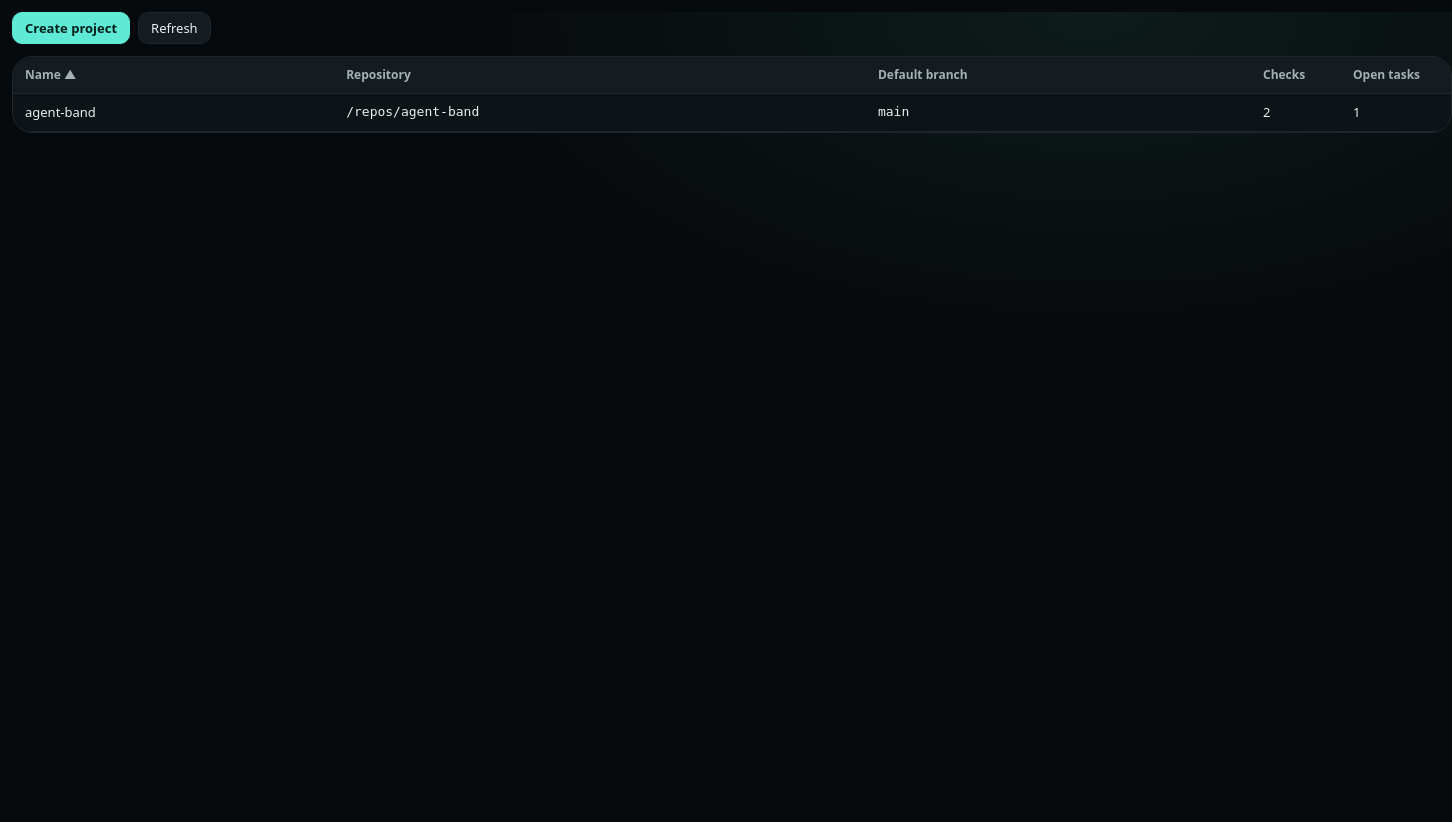
Test case: Projects screen › lists projects and shows open tasks, reviews and recent merges in the details
Check: the text "/repos/agent-band" is shown, box left=346, top=104, right=479, bottom=119
Click the row "agent-band /repos/agent-band main 2 1" at (732, 112), box left=13, top=93, right=1451, bottom=131
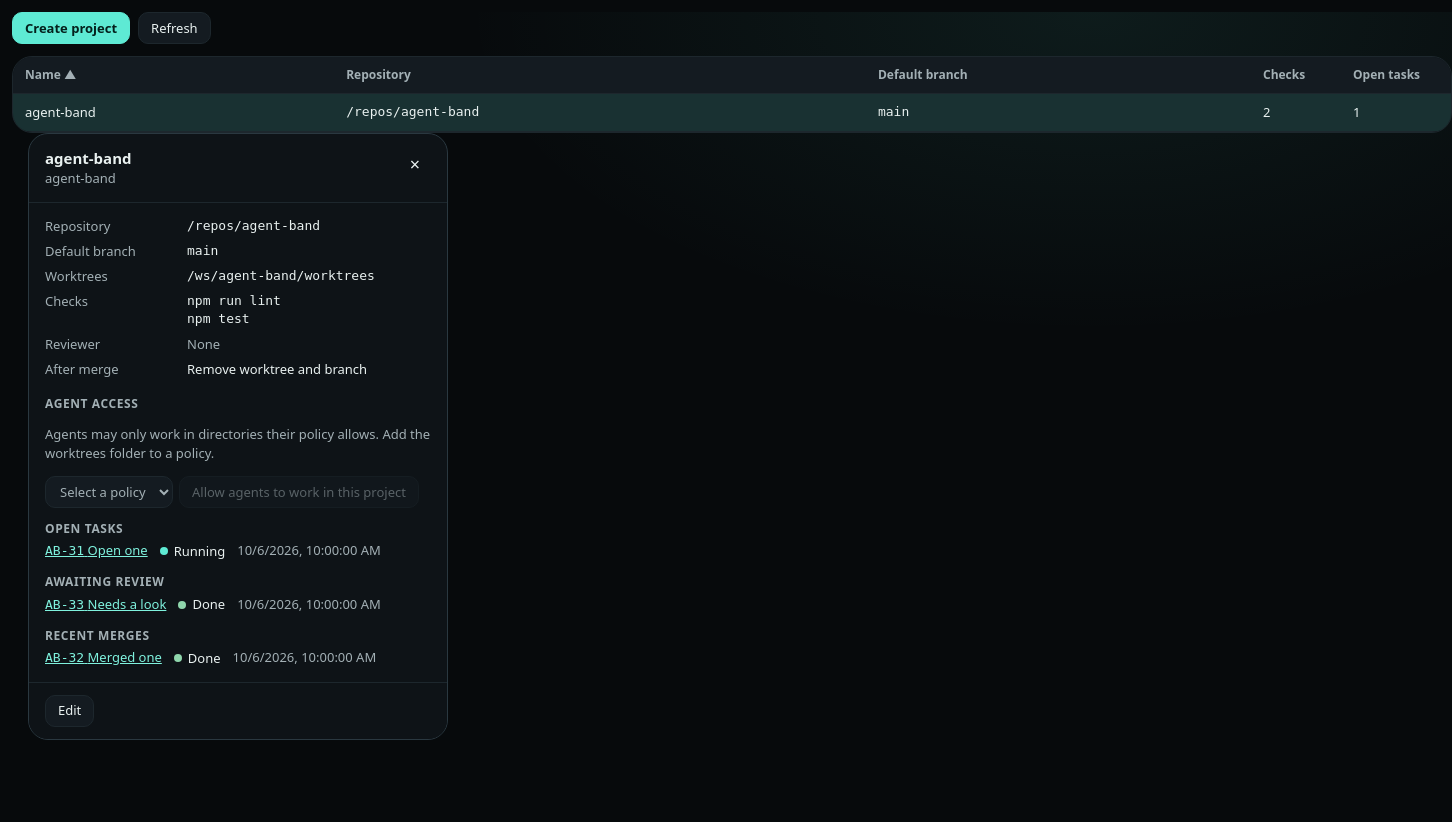
Check: the text "npm run lint" is shown, box left=187, top=293, right=281, bottom=308
Check: the link "AB-32 Merged one" is shown, box left=45, top=648, right=162, bottom=668
Check: the link "AB-33 Needs a look" is shown, box left=45, top=595, right=166, bottom=614
